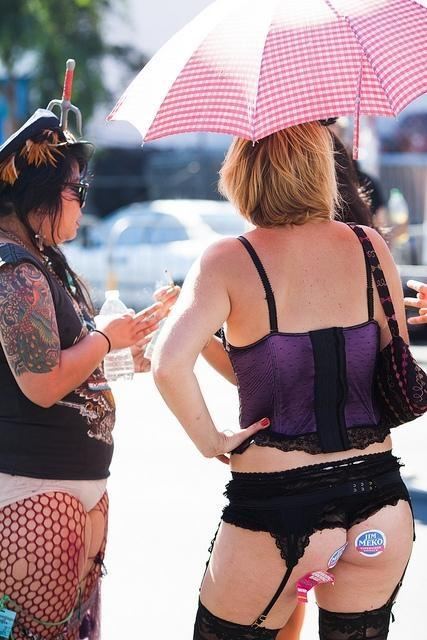car: (54, 198, 252, 316), (387, 223, 427, 339), (354, 164, 408, 238)
